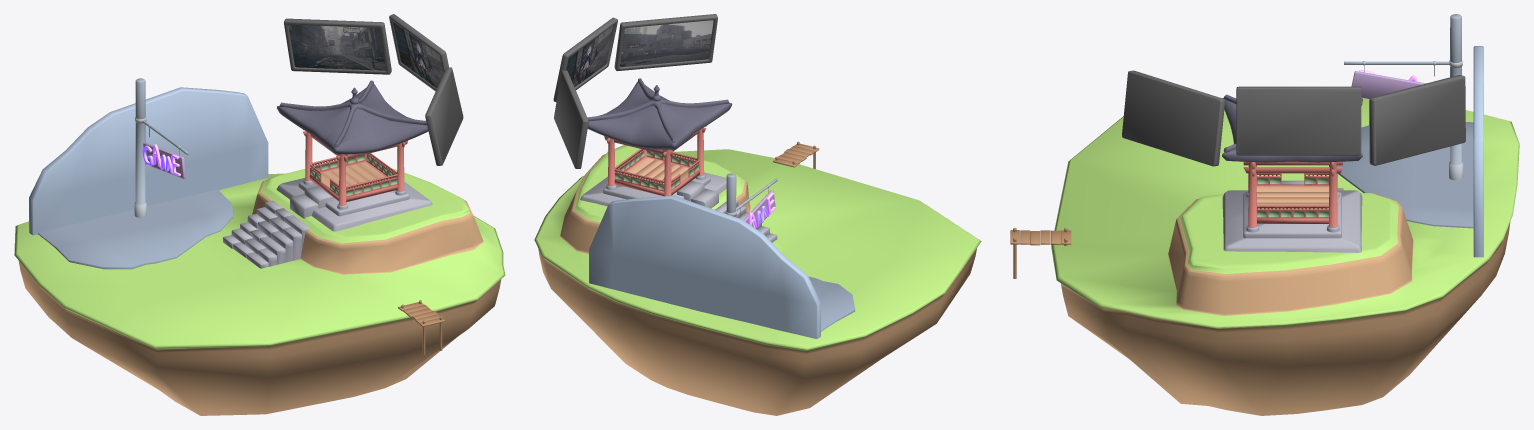
File: gameLand.glb
3 views of the same model, side by side, from view 1: azimuth 30°, elevation 25°; view 2: azimuth 150°, elevation 25°; view 3: azimuth 270°, elevation 25° (orthographic). The views are drawn at different scales.
Visible parts, largest first — view 1: game_land, game_concrete, game_pavilion_roof, game_monitor_emission, game_monitor_body, game_stair_rock02, game_stair_rock01, game_wood03, game_pole_body, game_wood01, game_dock_wood, game_sign_emission (+1 smaller); view 2: game_land, game_concrete, game_pavilion_roof, game_monitor_emission, game_monitor_body, game_wood03, game_stair_rock02, game_wood01, game_dock_wood, game_pole_body, game_stair_rock01; view 3: game_land, game_monitor_body, game_concrete, game_stair_rock02, game_wood03, game_wood01, game_pole_body, game_pavilion_roof, game_sign_board, game_dock_wood, game_wood02.
Boxes of the visible parts, left/top/right/bottom form: game_land: left=14, top=168, right=505, bottom=415; game_concrete: left=29, top=87, right=268, bottom=269; game_pavilion_roof: left=277, top=80, right=428, bottom=154; game_monitor_emission: left=288, top=21, right=443, bottom=88; game_monitor_body: left=284, top=14, right=463, bottom=165; game_stair_rock02: left=276, top=178, right=432, bottom=231; game_stair_rock01: left=223, top=200, right=309, bottom=268; game_wood03: left=303, top=132, right=405, bottom=209; game_pole_body: left=134, top=78, right=188, bottom=217; game_wood01: left=310, top=153, right=397, bottom=197; game_dock_wood: left=398, top=300, right=445, bottom=354; game_sign_emission: left=142, top=144, right=180, bottom=176; game_land: left=534, top=145, right=981, bottom=415; game_concrete: left=589, top=195, right=855, bottom=338; game_pavilion_roof: left=587, top=78, right=732, bottom=149; game_monitor_emission: left=566, top=20, right=713, bottom=87; game_monitor_body: left=553, top=14, right=717, bottom=168; game_wood03: left=606, top=128, right=705, bottom=196; game_stair_rock02: left=580, top=172, right=726, bottom=208; game_wood01: left=614, top=149, right=699, bottom=191; game_dock_wood: left=773, top=141, right=819, bottom=168; game_pole_body: left=726, top=173, right=777, bottom=217; game_stair_rock01: left=715, top=200, right=777, bottom=242; game_land: left=1051, top=98, right=1519, bottom=415; game_monitor_body: left=1122, top=70, right=1465, bottom=166; game_concrete: left=1337, top=46, right=1483, bottom=257; game_stair_rock02: left=1222, top=180, right=1362, bottom=252; game_wood03: left=1246, top=162, right=1339, bottom=232; game_wood01: left=1257, top=173, right=1328, bottom=218; game_pole_body: left=1344, top=14, right=1463, bottom=180; game_pavilion_roof: left=1222, top=94, right=1362, bottom=162; game_sign_board: left=1351, top=71, right=1425, bottom=98; game_dock_wood: left=1010, top=228, right=1071, bottom=278; game_wood02: left=1243, top=161, right=1342, bottom=176.
Bounding box in the file's own units: 563 × 394 × 517.
14 materials, 7 textured.
